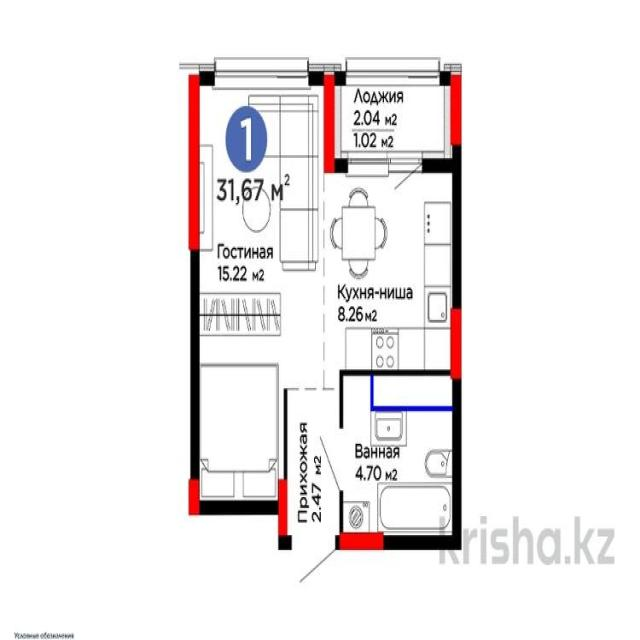balcony: (329, 69, 458, 163)
bathroom: (342, 374, 455, 542)
hallway: (286, 390, 340, 542)
studio: (194, 165, 458, 372)
